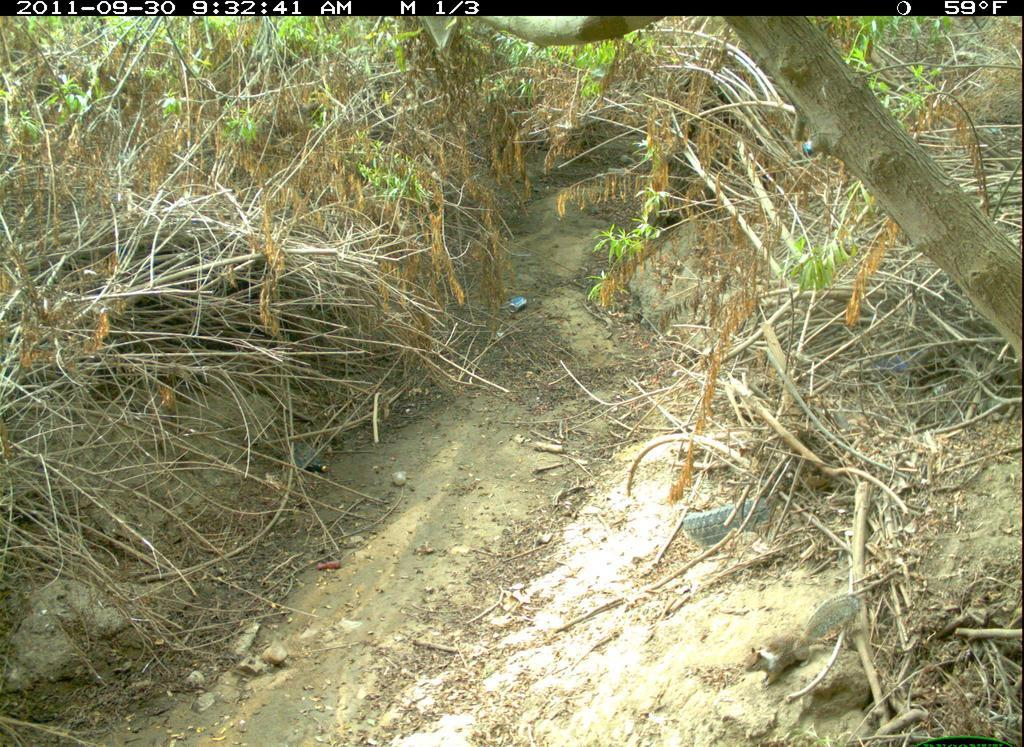squirrel: (734, 583, 868, 708)
